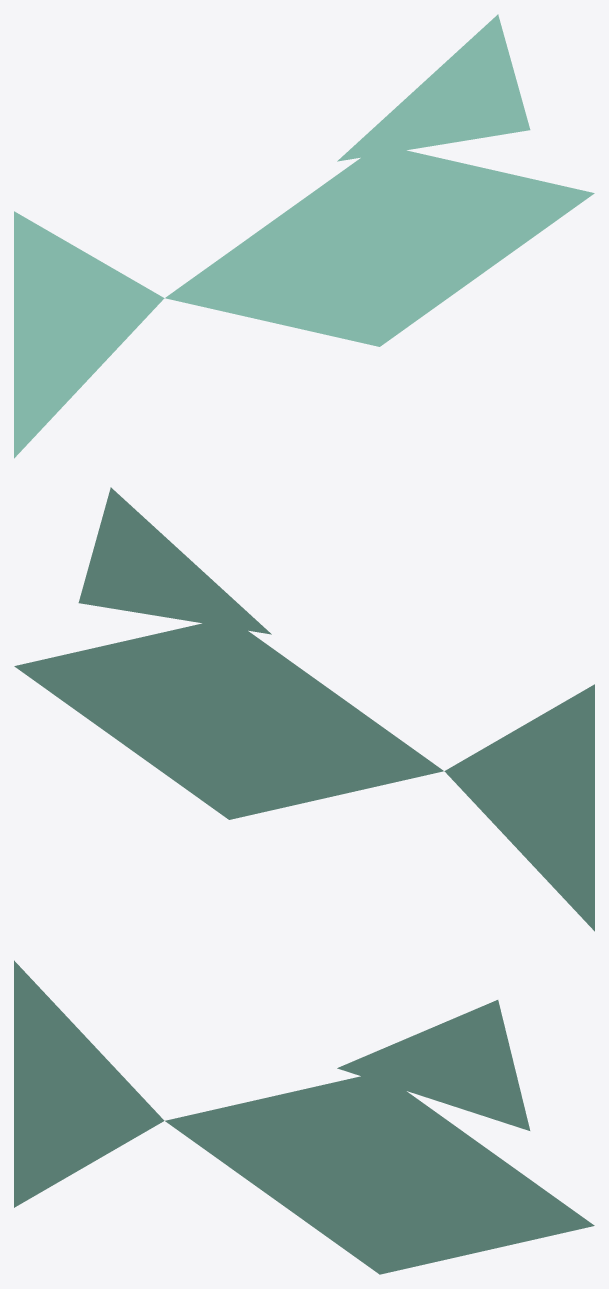
File: base-chuco.gltf
3 renders of one model, top to bottom at view 1: azimuth 30°, elevation 25°; view 2: azimuth 150°, elevation 25°; view 3: azimuth 330°, elevation 25°, orthographic.
Visible parts, largest first — view 1: base-chuco; view 2: base-chuco; view 3: base-chuco.
Part boxes in pixels (left/top/right/bottom): base-chuco: left=14, top=14, right=594, bottom=458; base-chuco: left=14, top=487, right=594, bottom=931; base-chuco: left=14, top=960, right=594, bottom=1274.
Bounding box in the file's own units: 2.7 × 1.45 × 0.
